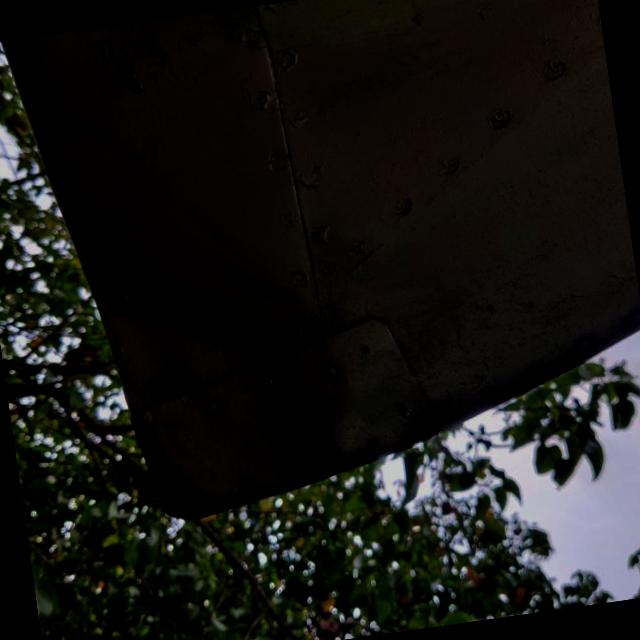dent: (114, 250, 386, 548)
